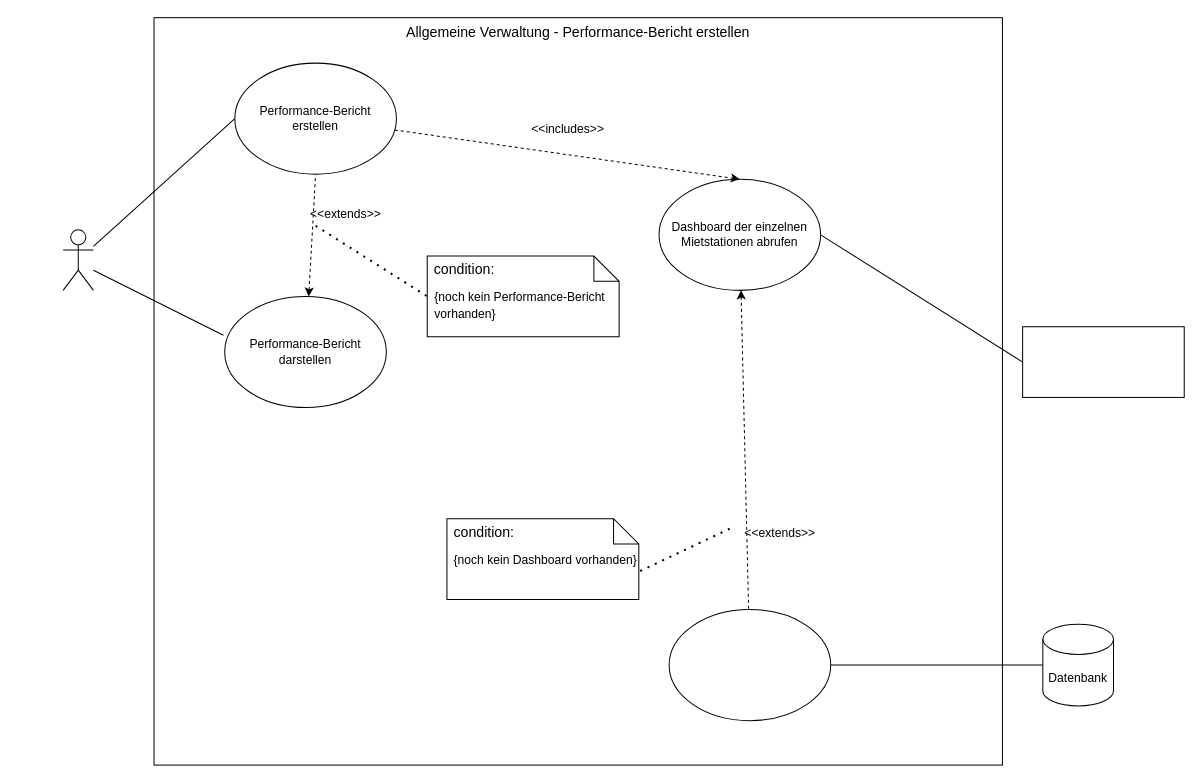
Image size: 1202x783. Some labels were removed from this diagram. The box of each missing label's shape, as (x1, y1, x2, y2) in pixels:
<<actor>> Mietstation: (1022, 326, 1184, 397)
Dashboard erstellen: (668, 609, 831, 721)
Unternehmenszentrale: (62, 229, 93, 290)
